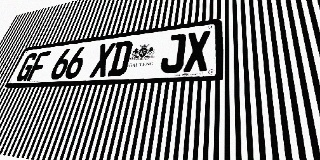6: (63, 46, 89, 79), (49, 48, 74, 80)
D: (107, 40, 134, 77)
F: (26, 51, 51, 81)
G: (14, 52, 39, 82)
J: (159, 33, 187, 74)
X: (183, 30, 211, 72), (89, 42, 116, 78)
